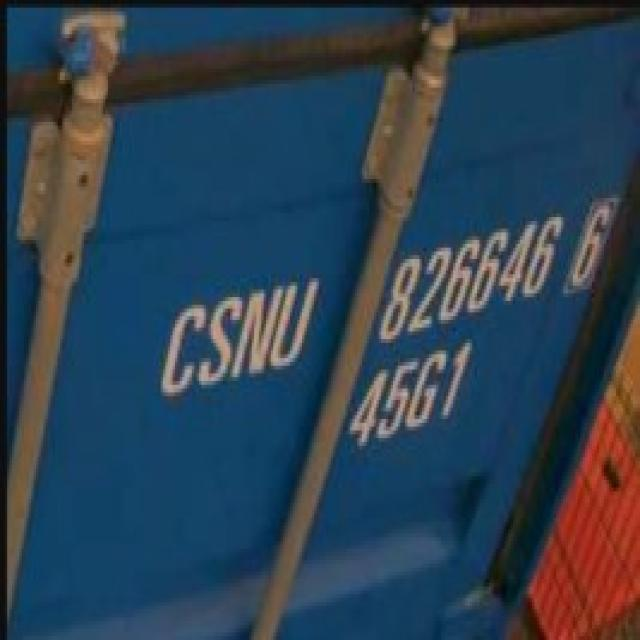dv: (564, 188, 622, 301)
owner: (152, 271, 320, 405)
serial: (377, 196, 564, 341)
size: (343, 344, 476, 461)
